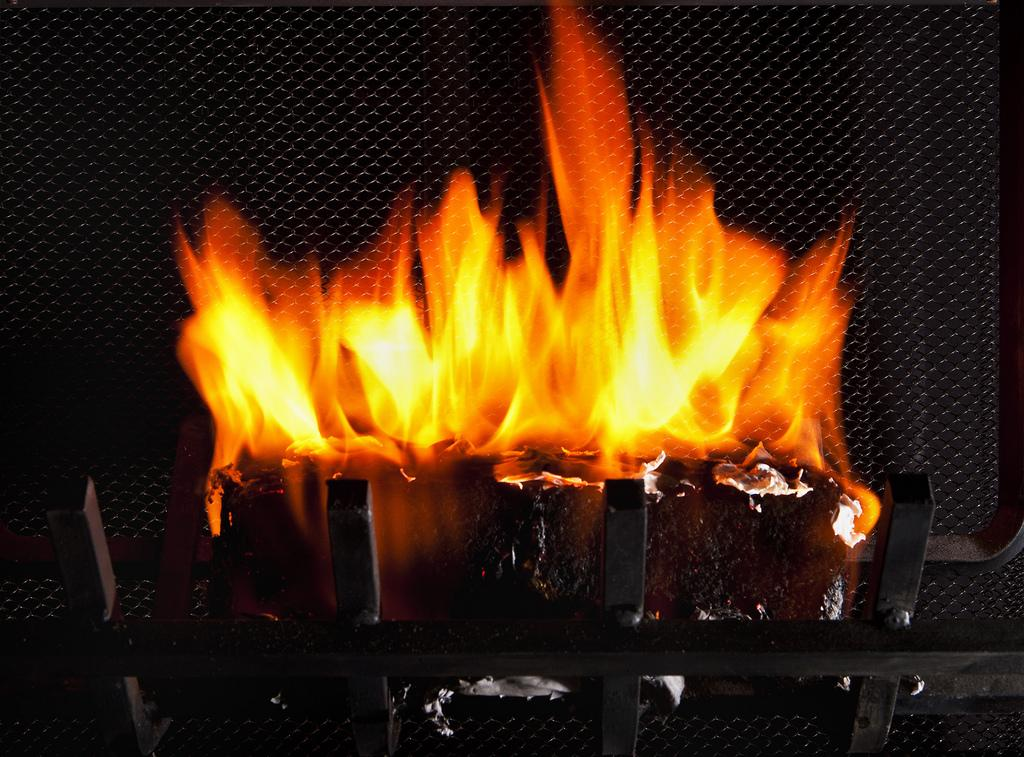fire: (204, 270, 814, 424)
